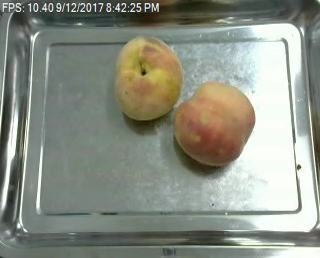Peach: (172, 81, 256, 165), (113, 34, 184, 120)
